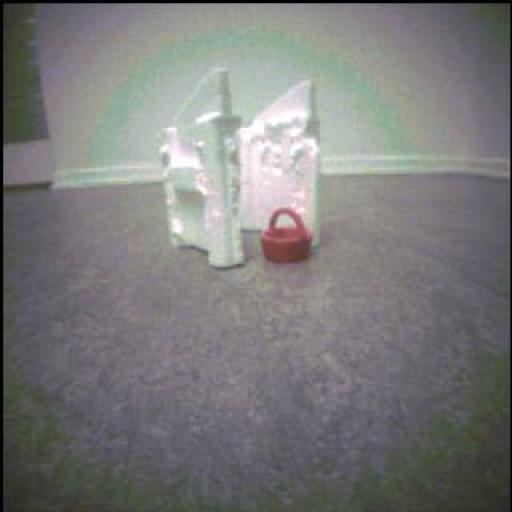Bucket: (262, 209, 313, 263)
